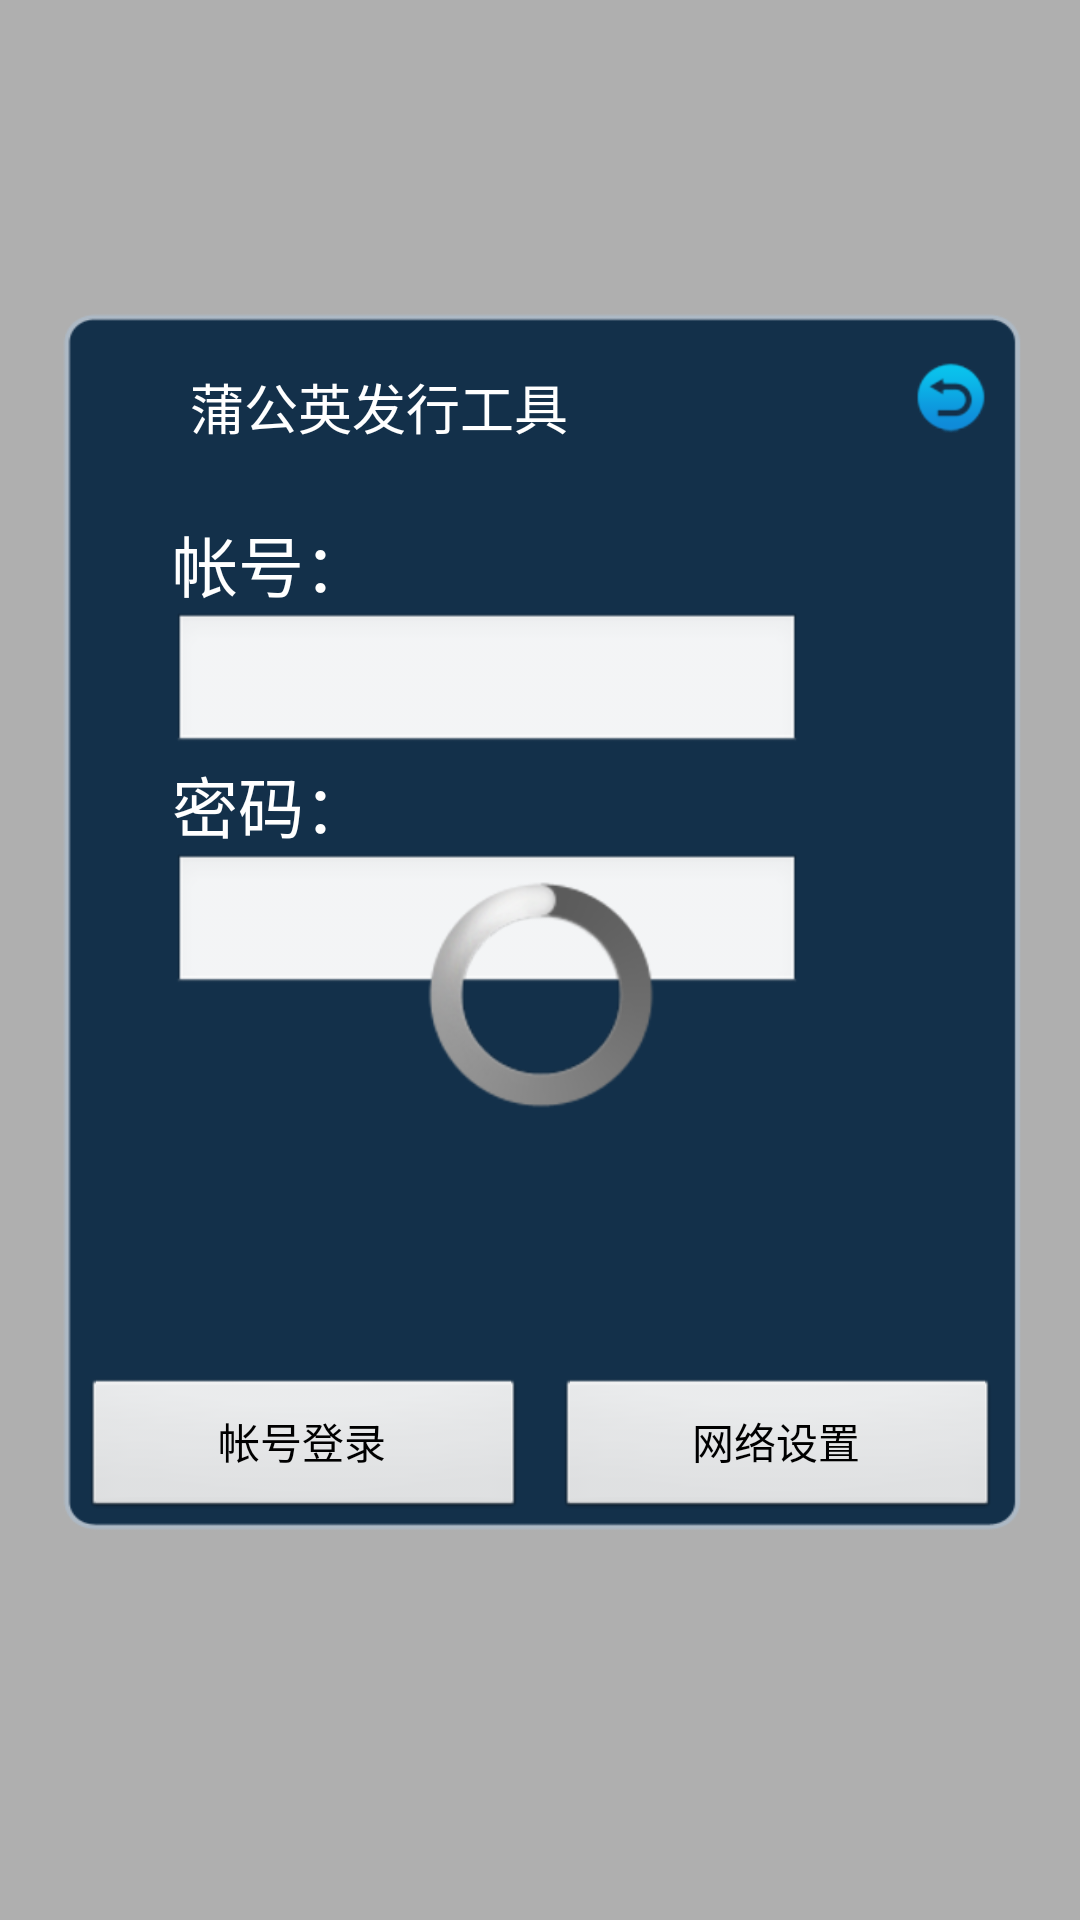

Icon bounding boxes for this 1080w x 1920h phone screenshot, format bbox(x1, y1, x2, y2):
取消: bbox(917, 363, 985, 432)
